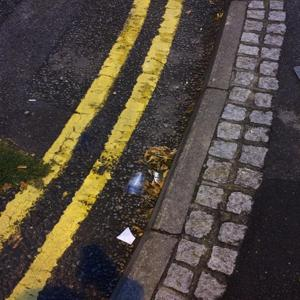plastic: (124, 168, 146, 204), (111, 225, 140, 246)
